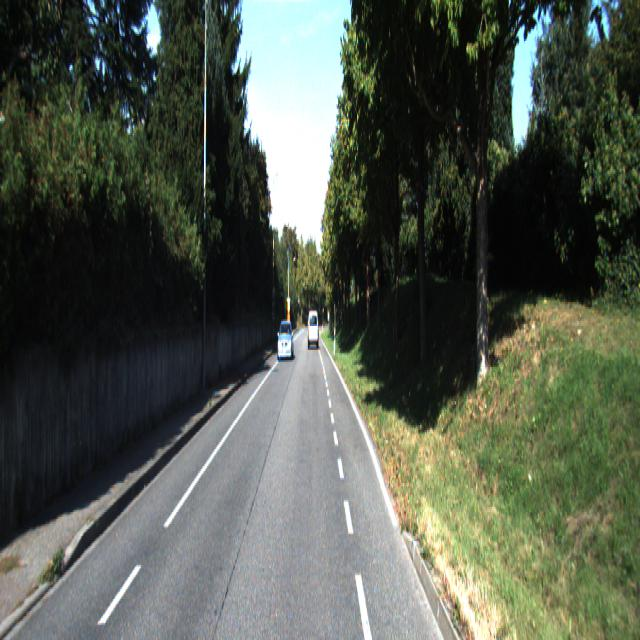Car: (276, 319, 293, 362), (307, 310, 320, 350)
